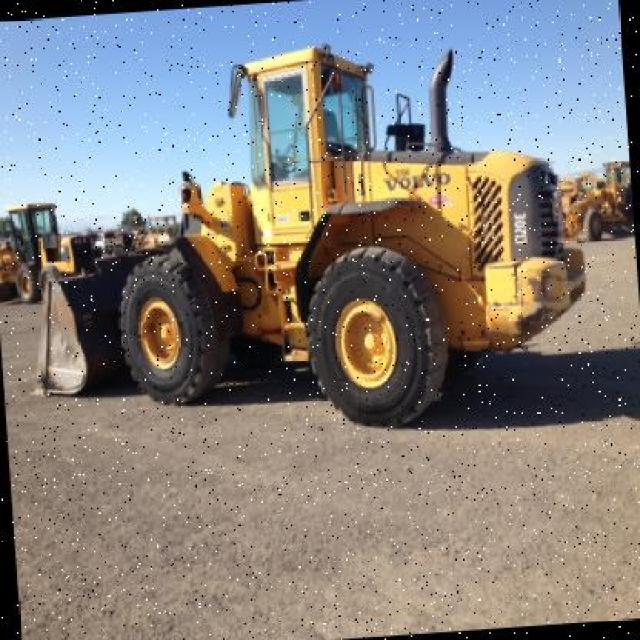buldozerpayloadergrader: (1, 35, 582, 448)
